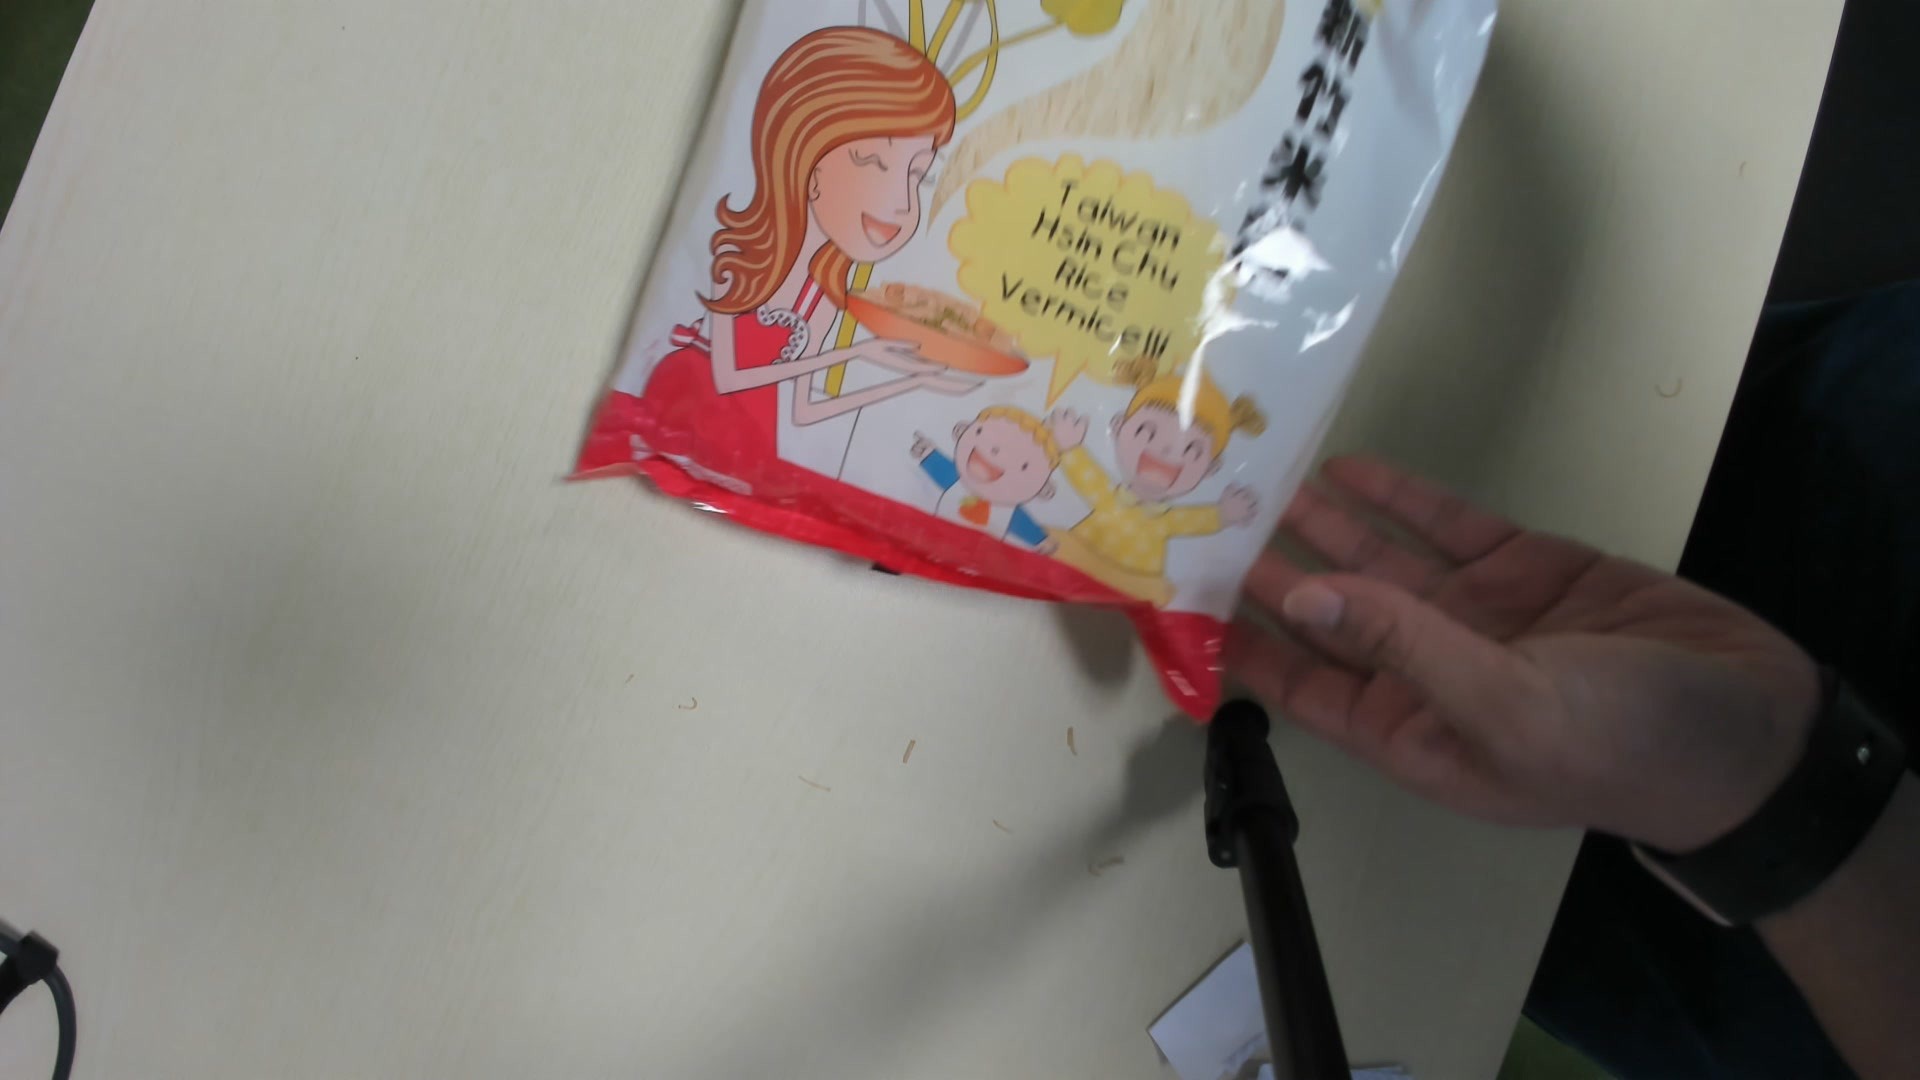BeeHoonVermicelli_0-99g_NonHalal_NonHealthy: (584, 3, 1494, 721)
